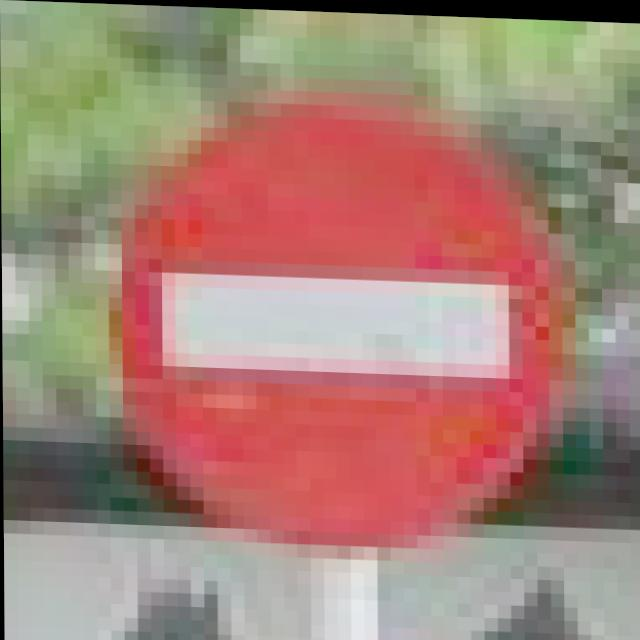NO_ENTRY: (115, 87, 568, 551)
